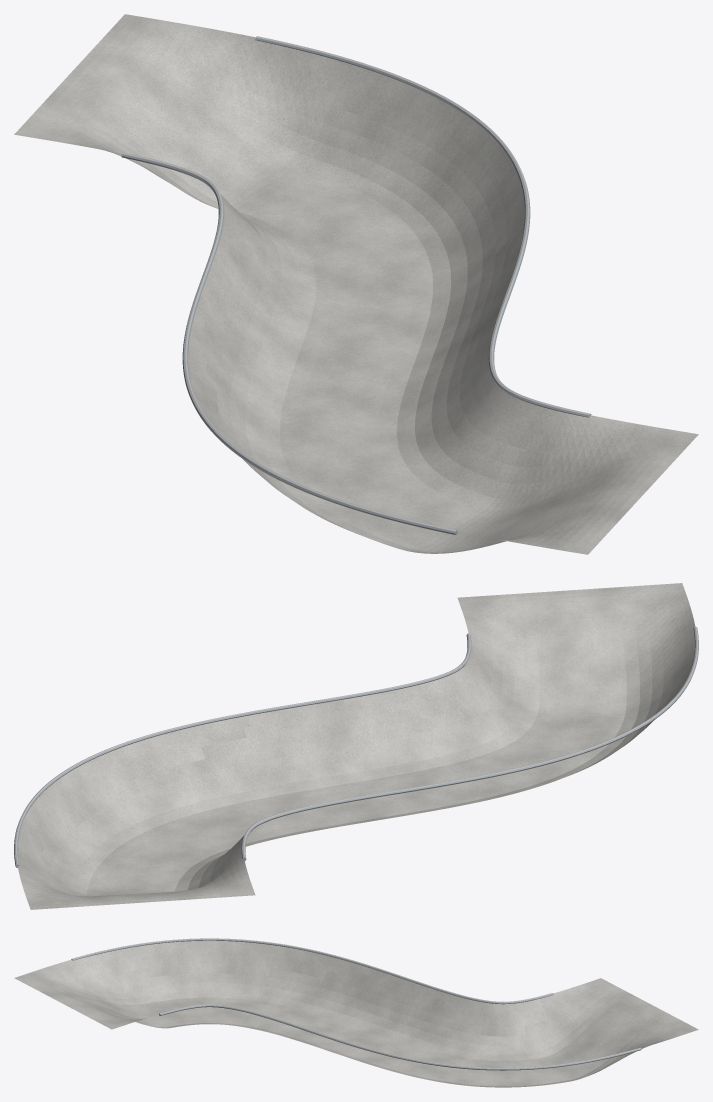
File: snake.glb
The picture shows the model from 3 angles, top to bottom: view 1: azimuth 30°, elevation 25°; view 2: azimuth 150°, elevation 25°; view 3: azimuth 270°, elevation 25°; orthographic projection. The views are drawn at different scales.
Parts seen in each view (by area): view 1: snake_bowl, snake_steel; view 2: snake_bowl, snake_steel; view 3: snake_bowl, snake_steel.
Boxes of the visible parts, x1=… form: snake_bowl: x1=14, y1=14, x2=698, y2=554; snake_steel: x1=121, y1=36, x2=591, y2=534; snake_bowl: x1=17, y1=583, x2=695, y2=909; snake_steel: x1=14, y1=626, x2=698, y2=867; snake_bowl: x1=14, y1=940, x2=698, y2=1087; snake_steel: x1=71, y1=938, x2=641, y2=1070.
Bounding box in the file's own units: 9.48 × 1.32 × 21.
2 materials, 1 textured.
